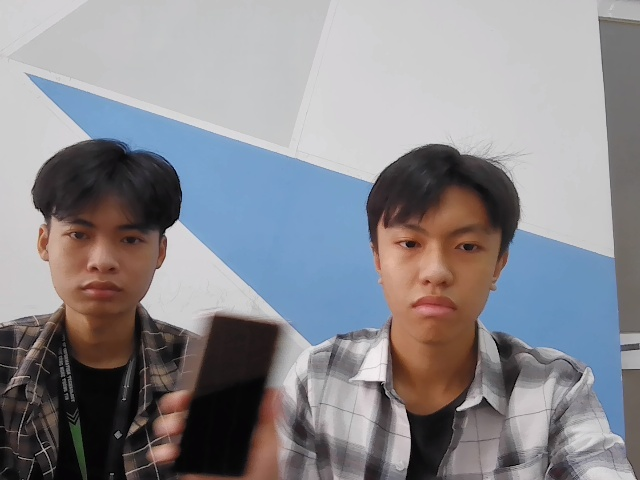human: (361, 147, 523, 348), (31, 135, 188, 323)
phone: (170, 310, 280, 480)
